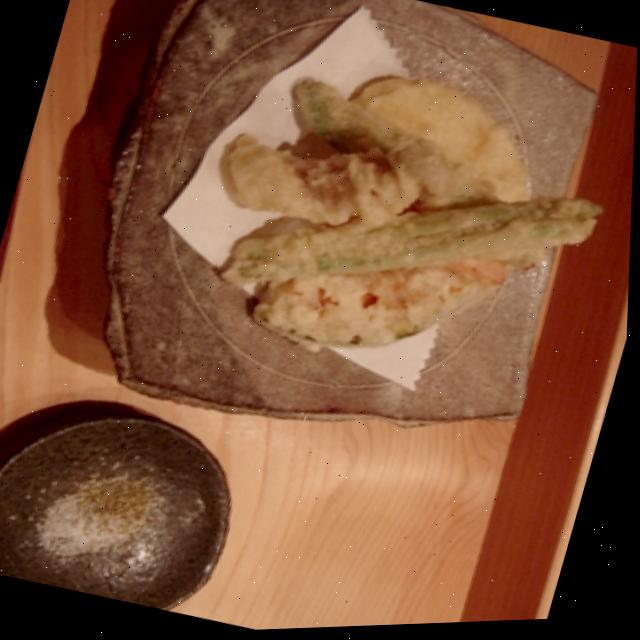蔬菜料理: (162, 0, 640, 434)
